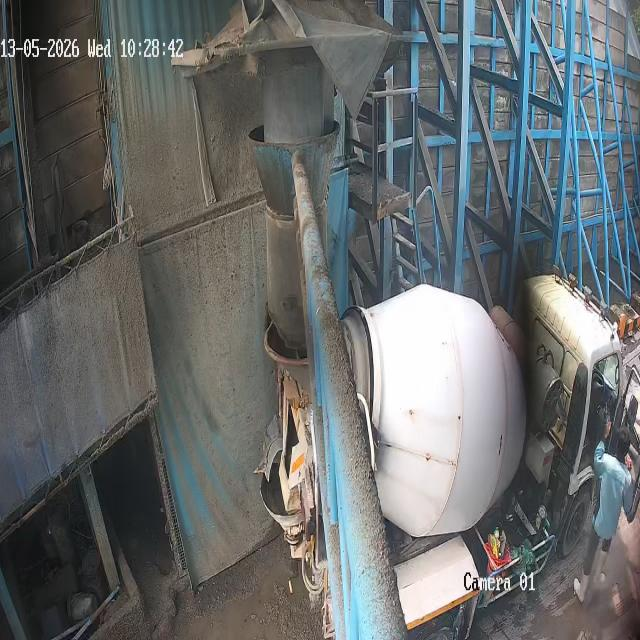cement_mixer_truck: (266, 273, 639, 640)
swing_chute: (249, 119, 347, 347)
